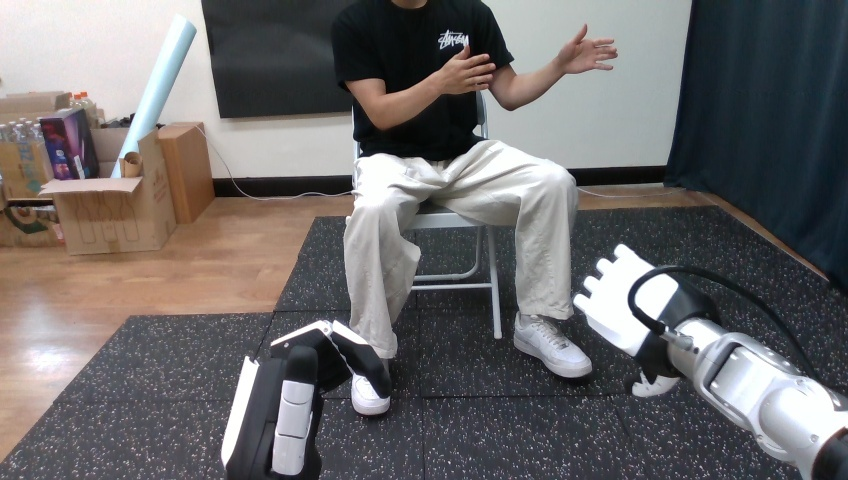left robot hand: (574, 244, 847, 478), (431, 45, 495, 94), (555, 24, 617, 74)
